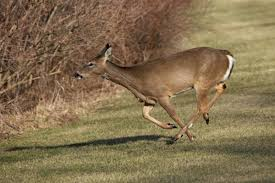Deer: (72, 42, 234, 142)
